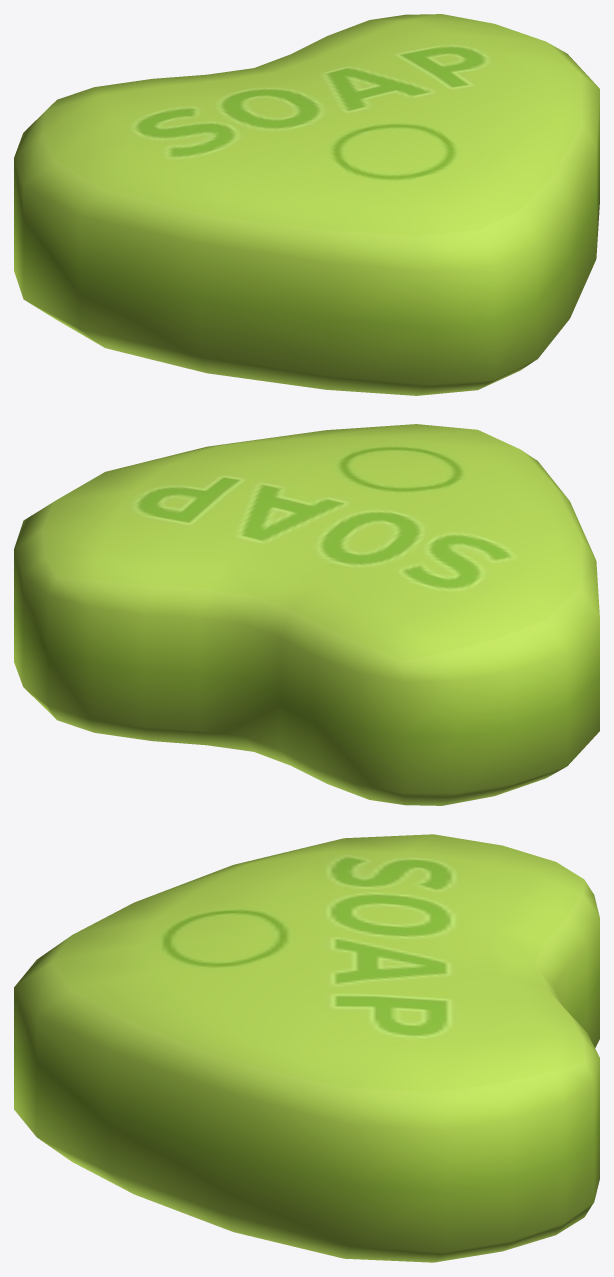
The model's file is Soap.fbx.
3 renders of one model, top to bottom at view 1: azimuth 30°, elevation 25°; view 2: azimuth 150°, elevation 25°; view 3: azimuth 270°, elevation 25°, orthographic. The views are drawn at different scales.
Visible parts, largest first — view 1: Soap; view 2: Soap; view 3: Soap.
Part boxes in pixels (box(x1,y1,x2,y2)): Soap: box(14, 14, 599, 395); Soap: box(14, 424, 599, 805); Soap: box(14, 834, 599, 1262).
Bounding box in the file's own units: 3.9 × 1.41 × 3.37.
